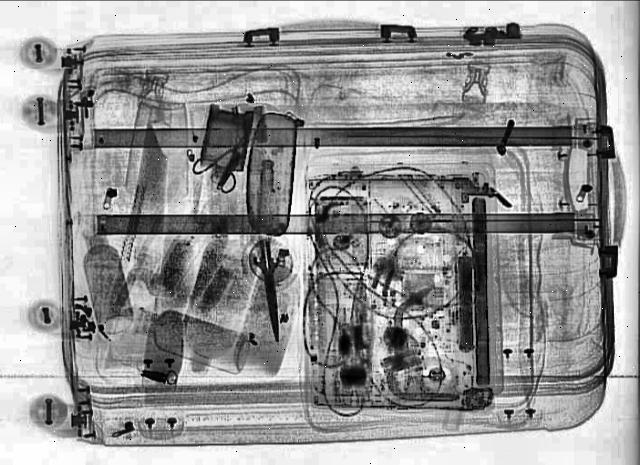Knife: (252, 240, 294, 342)
Scissors: (186, 116, 280, 196)
